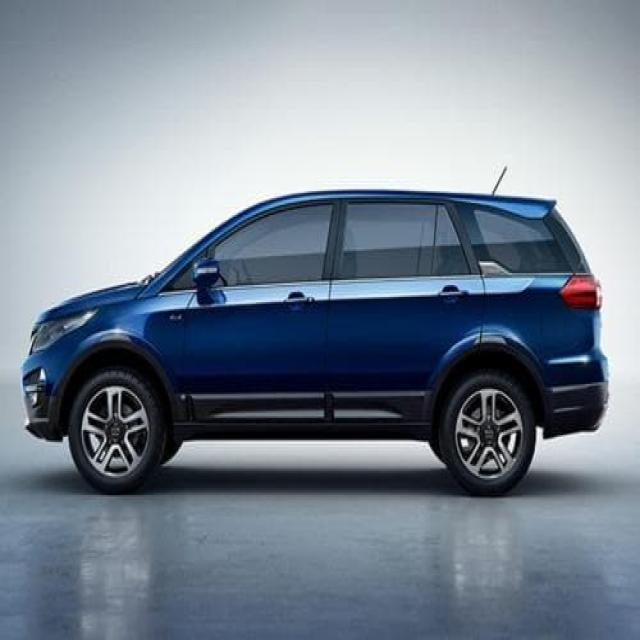car: (27, 191, 609, 468)
